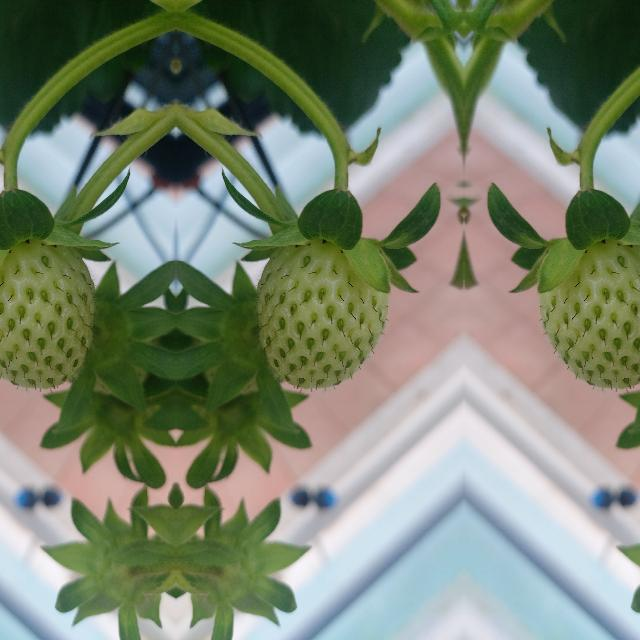Health_25: (256, 240, 386, 388), (539, 240, 640, 388), (0, 240, 94, 388)
